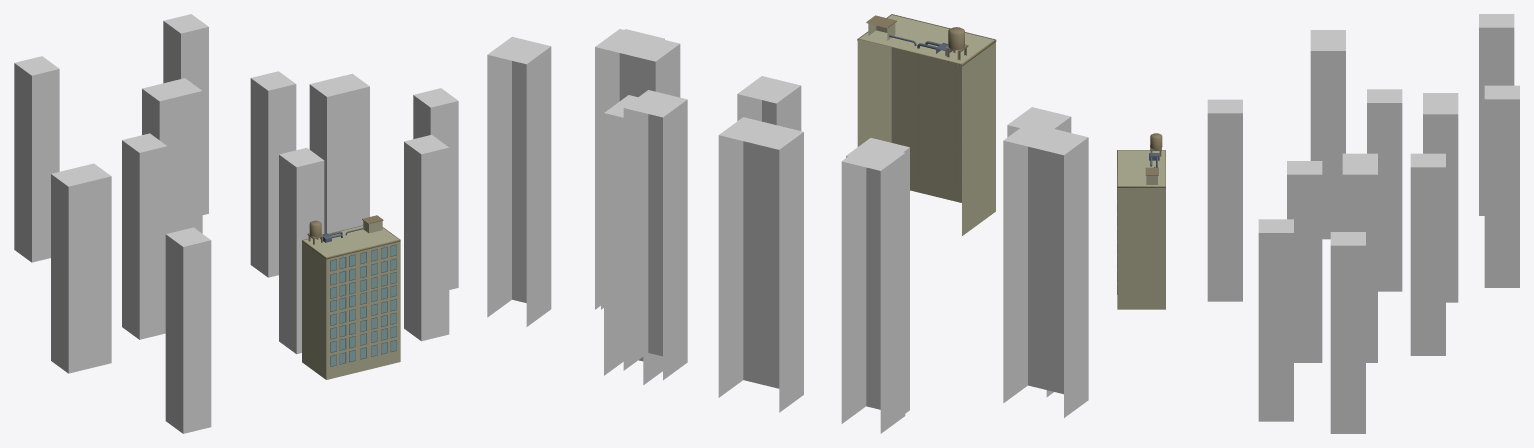
Rendered from the roof.fbx.
3 renders of one model, left to right at view 1: azimuth 30°, elevation 25°; view 2: azimuth 150°, elevation 25°; view 3: azimuth 270°, elevation 25°, orthographic. The views are drawn at different scales.
Visible parts, largest first — view 1: background, home; view 2: background, home; view 3: background, home.
Part boxes in pixels (left/top/right/bottom): background: left=14, top=14, right=458, bottom=433; home: left=302, top=215, right=400, bottom=379; background: left=487, top=29, right=1088, bottom=433; home: left=857, top=14, right=996, bottom=235; background: left=1207, top=14, right=1519, bottom=433; home: left=1117, top=133, right=1165, bottom=309.
Size of the model in its own units: 102 by 64.98 by 88.27.
